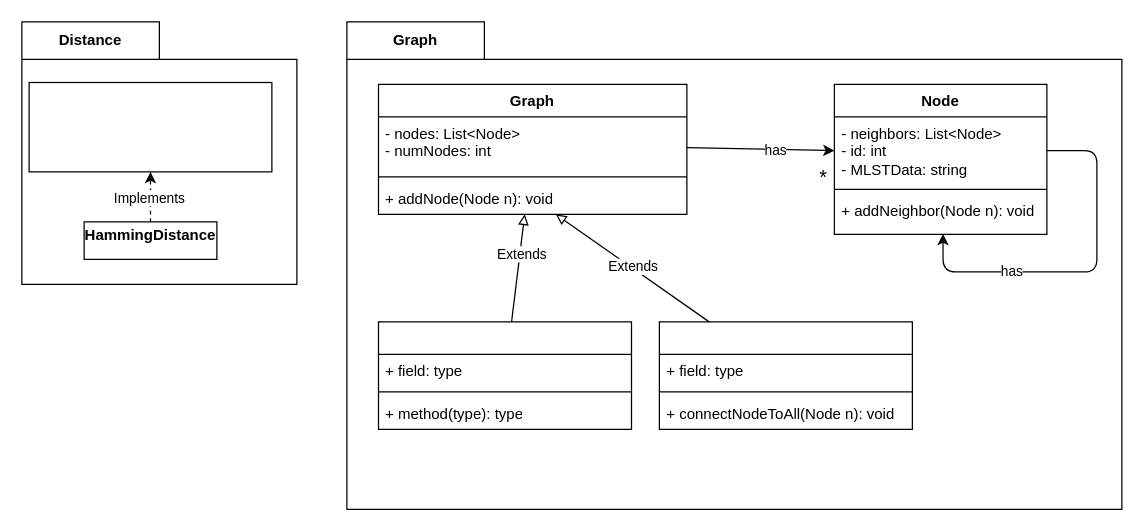
This 1144x531 diagram has some shape labels left out. Here are the shapes that lost their labels. From the top down, the box of each, then its label:
(28, 81, 272, 172): <<Interface>> DistanceFunction + compute(Point x, Point y): double
(377, 321, 632, 429): DirectedGraph
(658, 321, 912, 429): CompleteGraph
